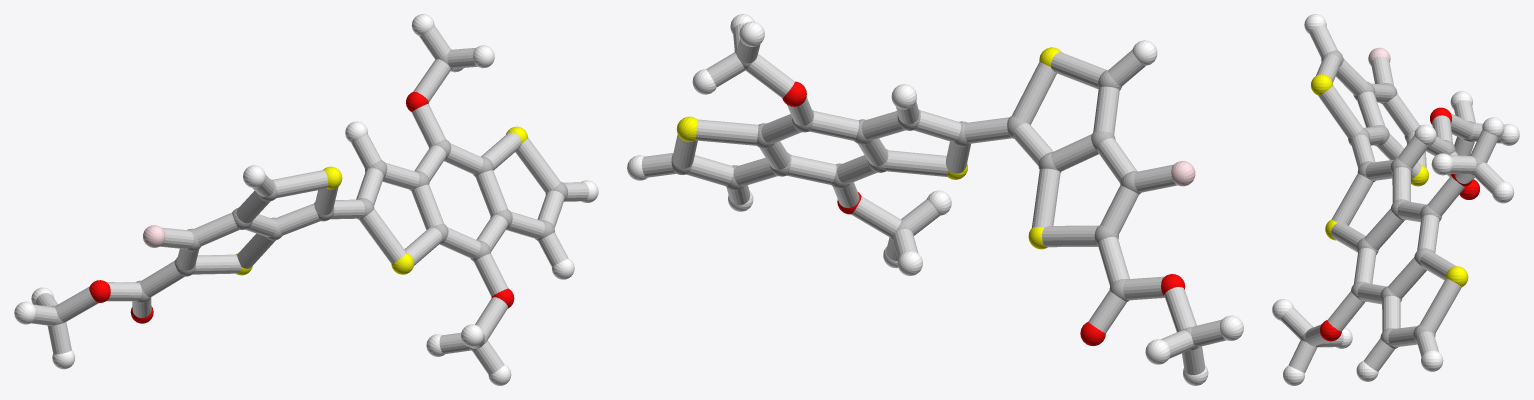
File: Dimethoxy_Benzodithiophene_Phi_5_Theta_280_Methylcarbonyl_3_Fluoro_Thienothiophene.glb
The picture shows the model from 3 angles, left to right: view 1: azimuth 30°, elevation 25°; view 2: azimuth 150°, elevation 25°; view 3: azimuth 270°, elevation 25°; orthographic projection. The views are drawn at different scales.
Visible parts, largest first — view 1: grp15205, grp8689, grp1, grp13395, grp7241; view 2: grp15205, grp8689, grp1, grp13395, grp7241; view 3: grp15205, grp8689, grp1, grp7241, grp13395, grp14843.
Part boxes in pixels (<box>): grp15205: <box>31,26,589,374</box>; grp8689: <box>14,14,598,385</box>; grp1: <box>51,49,567,350</box>; grp13395: <box>89,91,514,323</box>; grp7241: <box>235,126,527,275</box>; grp15205: <box>641,23,1226,375</box>; grp8689: <box>627,14,1243,385</box>; grp1: <box>671,49,1198,350</box>; grp13395: <box>782,81,1185,345</box>; grp7241: <box>676,47,1061,249</box>; grp15205: <box>1281,25,1504,372</box>; grp8689: <box>1272,14,1519,385</box>; grp1: <box>1301,50,1483,348</box>; grp7241: <box>1311,74,1468,286</box>; grp13395: <box>1320,107,1479,341</box>; grp14843: <box>1368,47,1390,65</box>.
Bounding box in the file's own units: 17.08 × 8.31 × 6.68.
